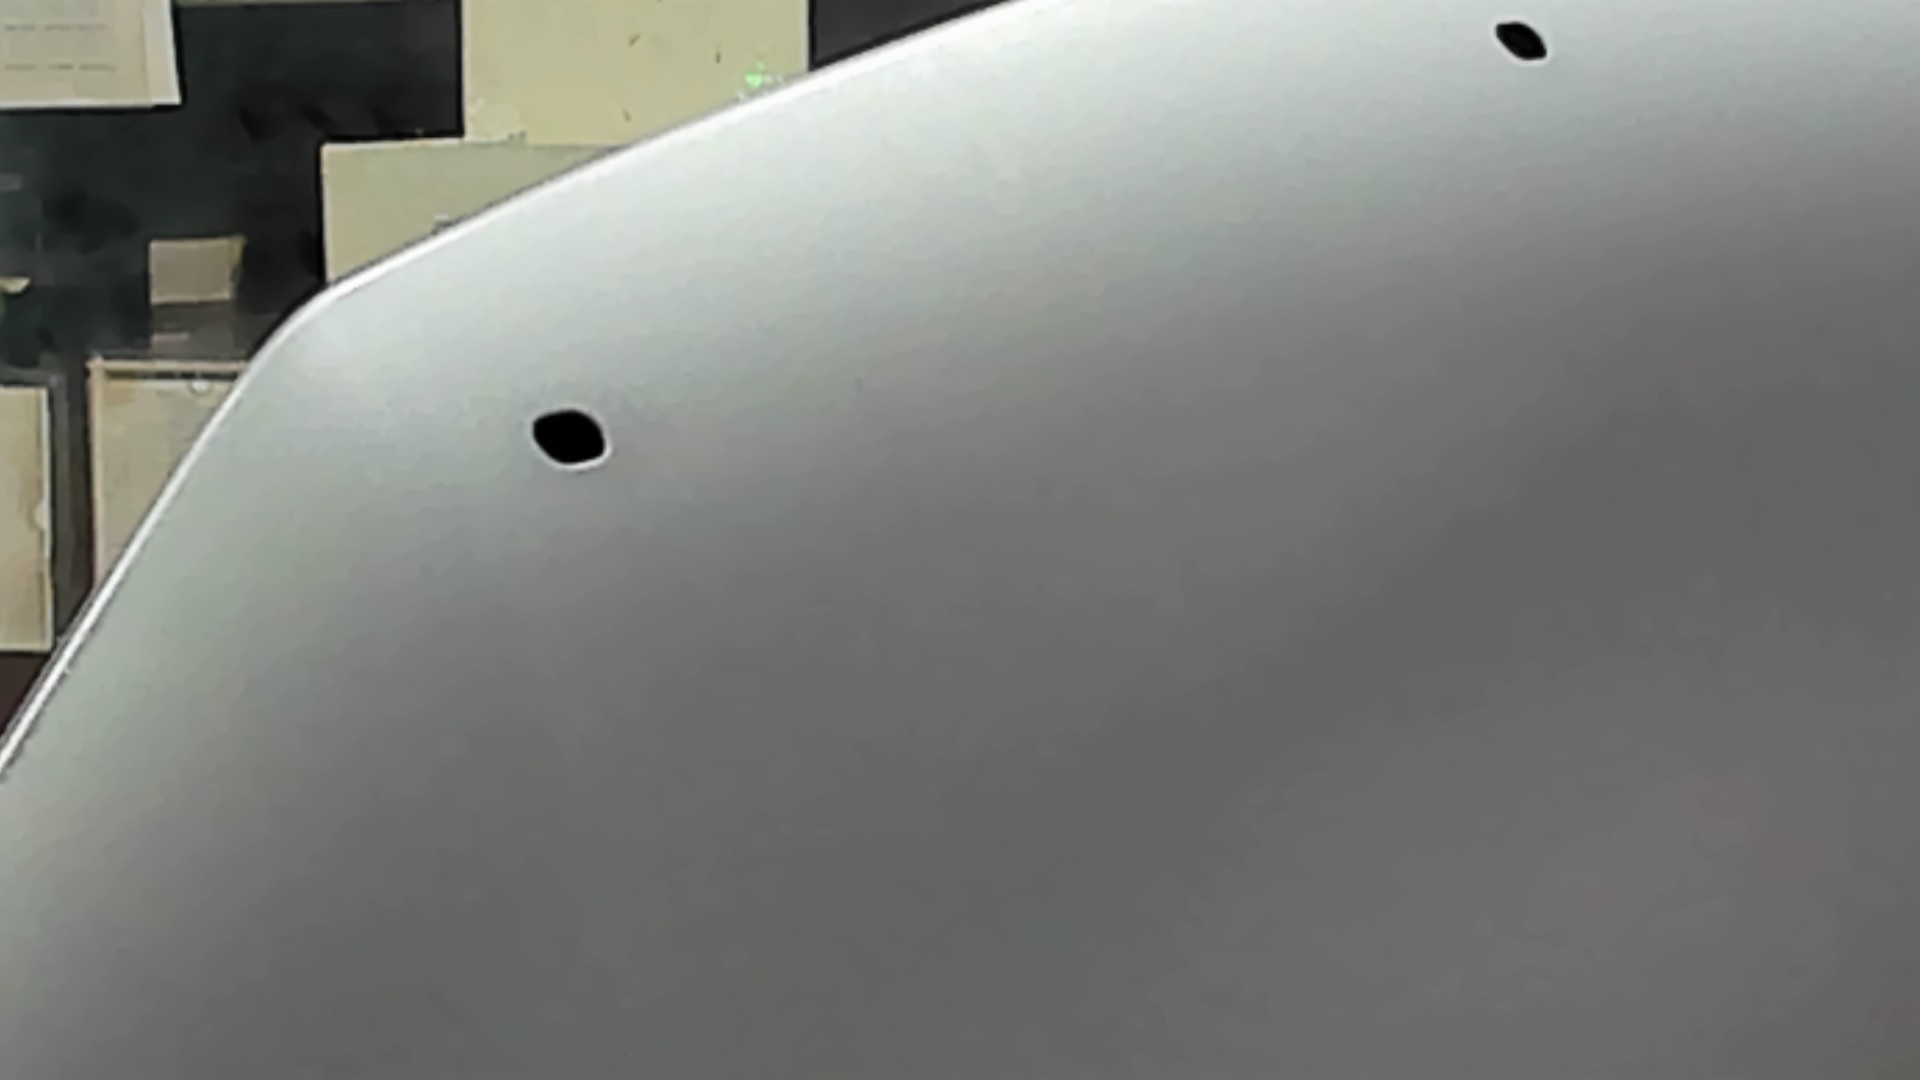chico: (524, 400, 618, 477), (1484, 11, 1557, 79)
